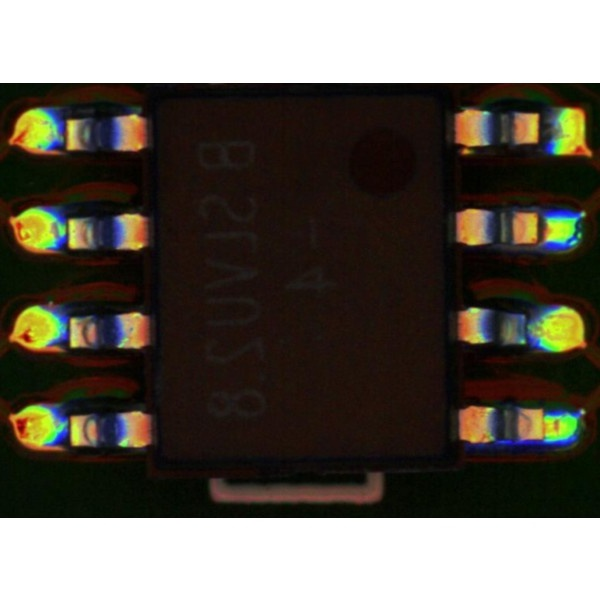Bad_podu: (529, 216, 553, 242), (524, 420, 563, 435)
